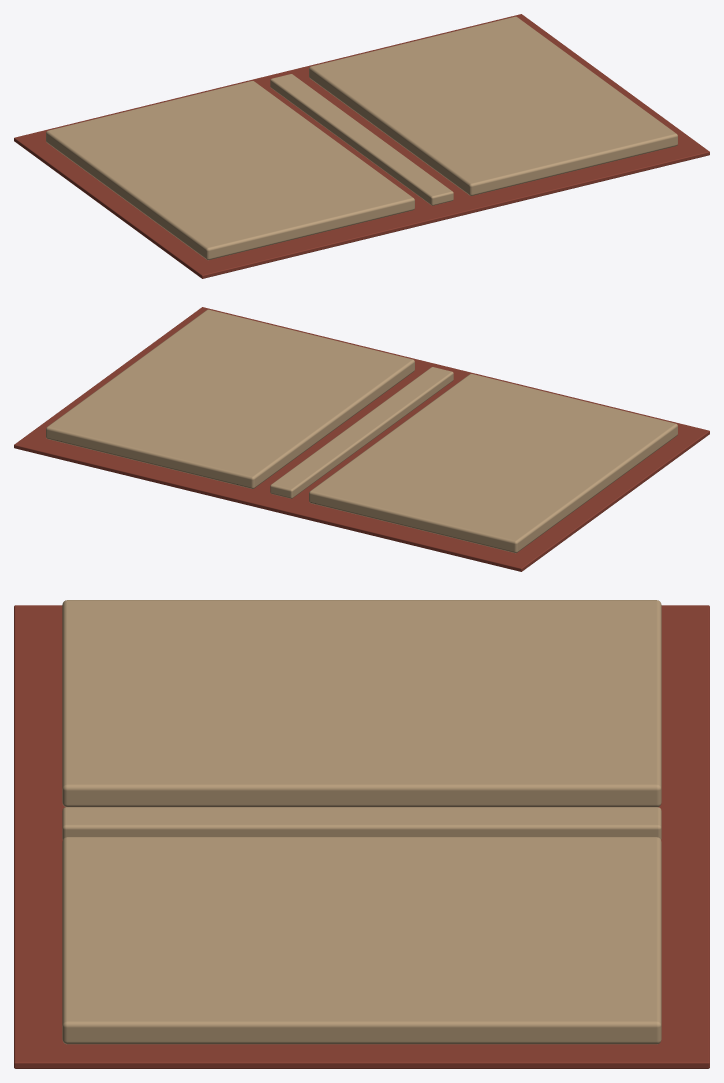
Rendered from bookbinding-and-paper-mill-unfinished-leather-cover-6abf08b3__30584.glb.
The picture shows the model from 3 angles, top to bottom: view 1: azimuth 30°, elevation 25°; view 2: azimuth 150°, elevation 25°; view 3: azimuth 270°, elevation 25°; orthographic projection. The views are drawn at different scales.
Visible parts, largest first — view 1: unfinished-leather-cover; view 2: unfinished-leather-cover; view 3: unfinished-leather-cover.
Boxes of the visible parts, <box> form: unfinished-leather-cover: <box>14,14,709,278</box>; unfinished-leather-cover: <box>14,307,709,571</box>; unfinished-leather-cover: <box>14,600,709,1068</box>.
Bounding box in the file's own units: 0.56 × 0.017 × 0.36.
